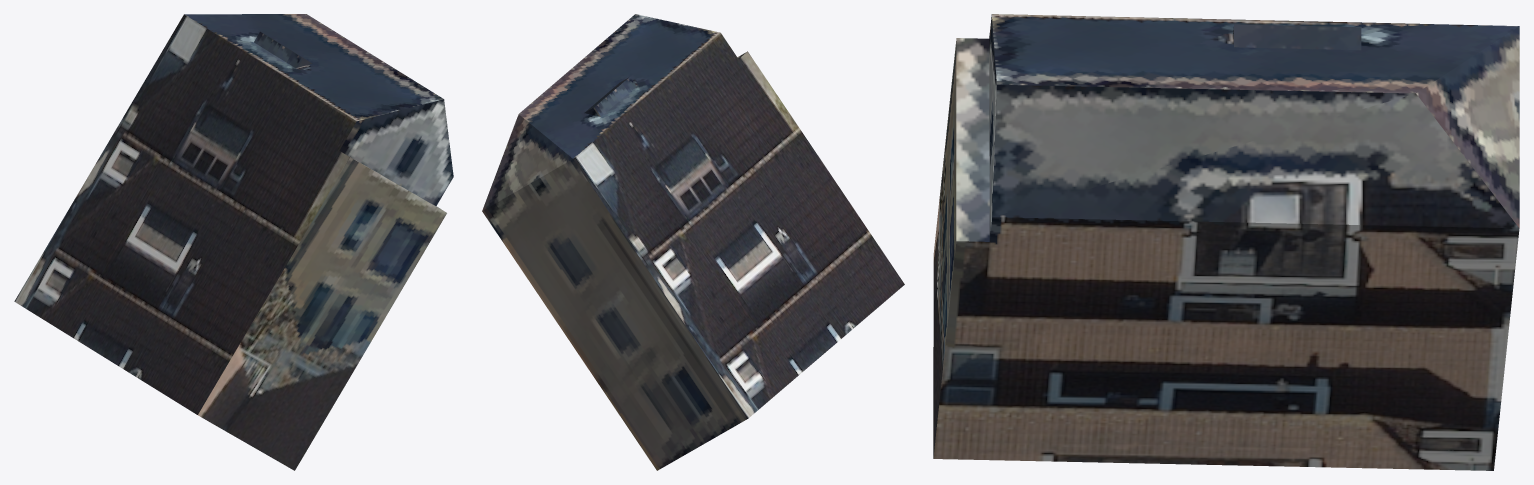
The picture shows the model from 3 angles, left to right: view 1: azimuth 30°, elevation 25°; view 2: azimuth 150°, elevation 25°; view 3: azimuth 270°, elevation 25°; orthographic projection. The views are drawn at different scales.
Visible parts, largest first — view 1: BAG_0599100000688707 (×4); view 2: BAG_0599100000688707 (×4); view 3: BAG_0599100000688707 (×4).
Part boxes in pixels (x1,y1,x2,y2): BAG_0599100000688707 (×4): (14,14,453,470); BAG_0599100000688707 (×4): (482,14,904,470); BAG_0599100000688707 (×4): (933,14,1519,470).
Bounding box in the file's own units: 11.14 × 12.5 × 12.47.
Materials: 5 (5 with a texture image).
